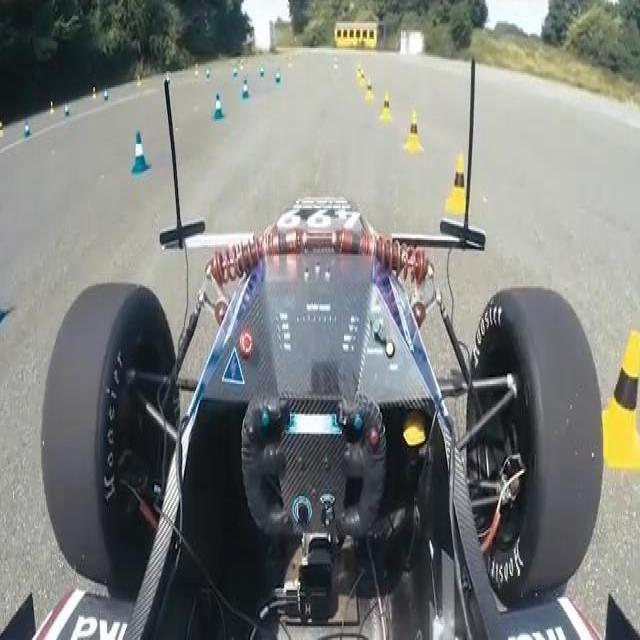blue_cone: (132, 132, 150, 176), (213, 92, 224, 120)
yellow_cone: (591, 329, 640, 469), (445, 154, 471, 217), (403, 110, 423, 153), (379, 90, 393, 122)
